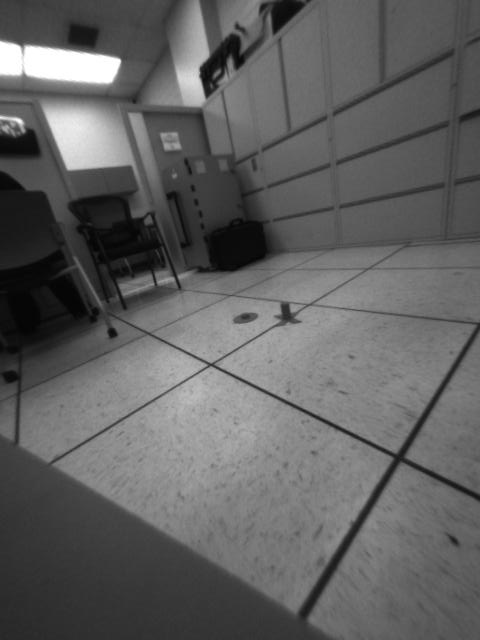X: (273, 301, 302, 325)
